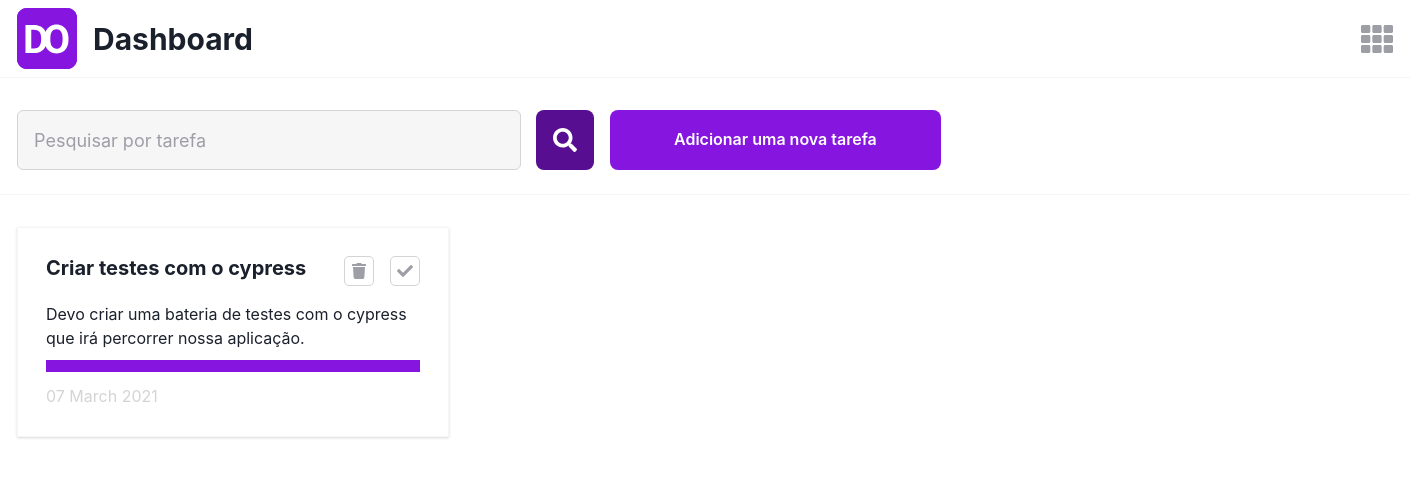
Test: Handle task › Delete our task
Click the 4th button. click: (359, 271)
box: [344, 256, 374, 286]
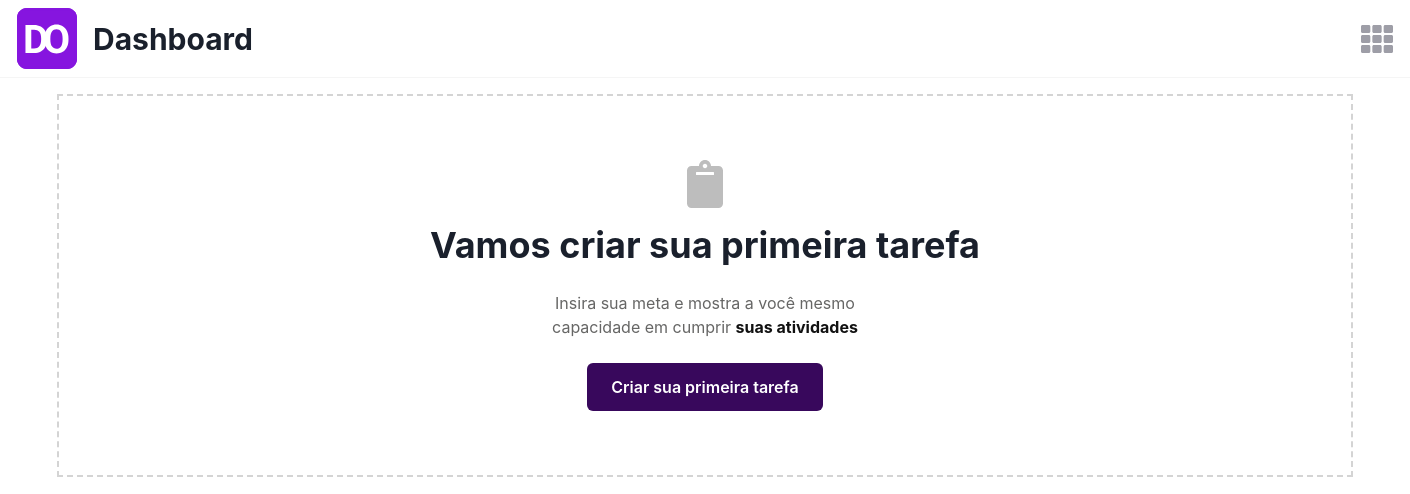
expect the heading "Criar testes com o cypress" is gone: met
